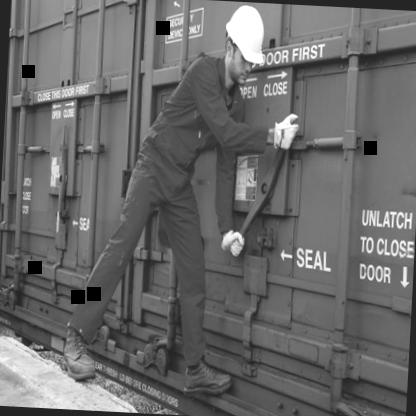helmet: (211, 0, 273, 92)
